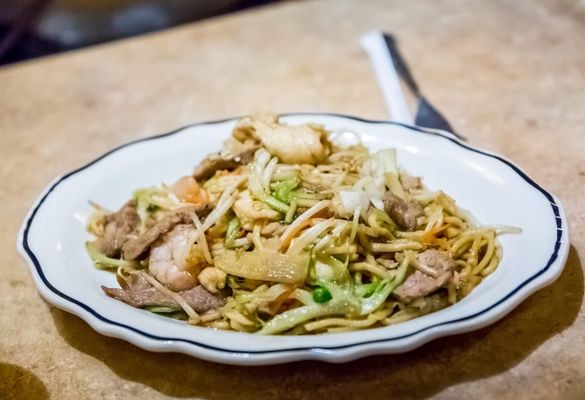curry: (4, 0, 573, 393)
